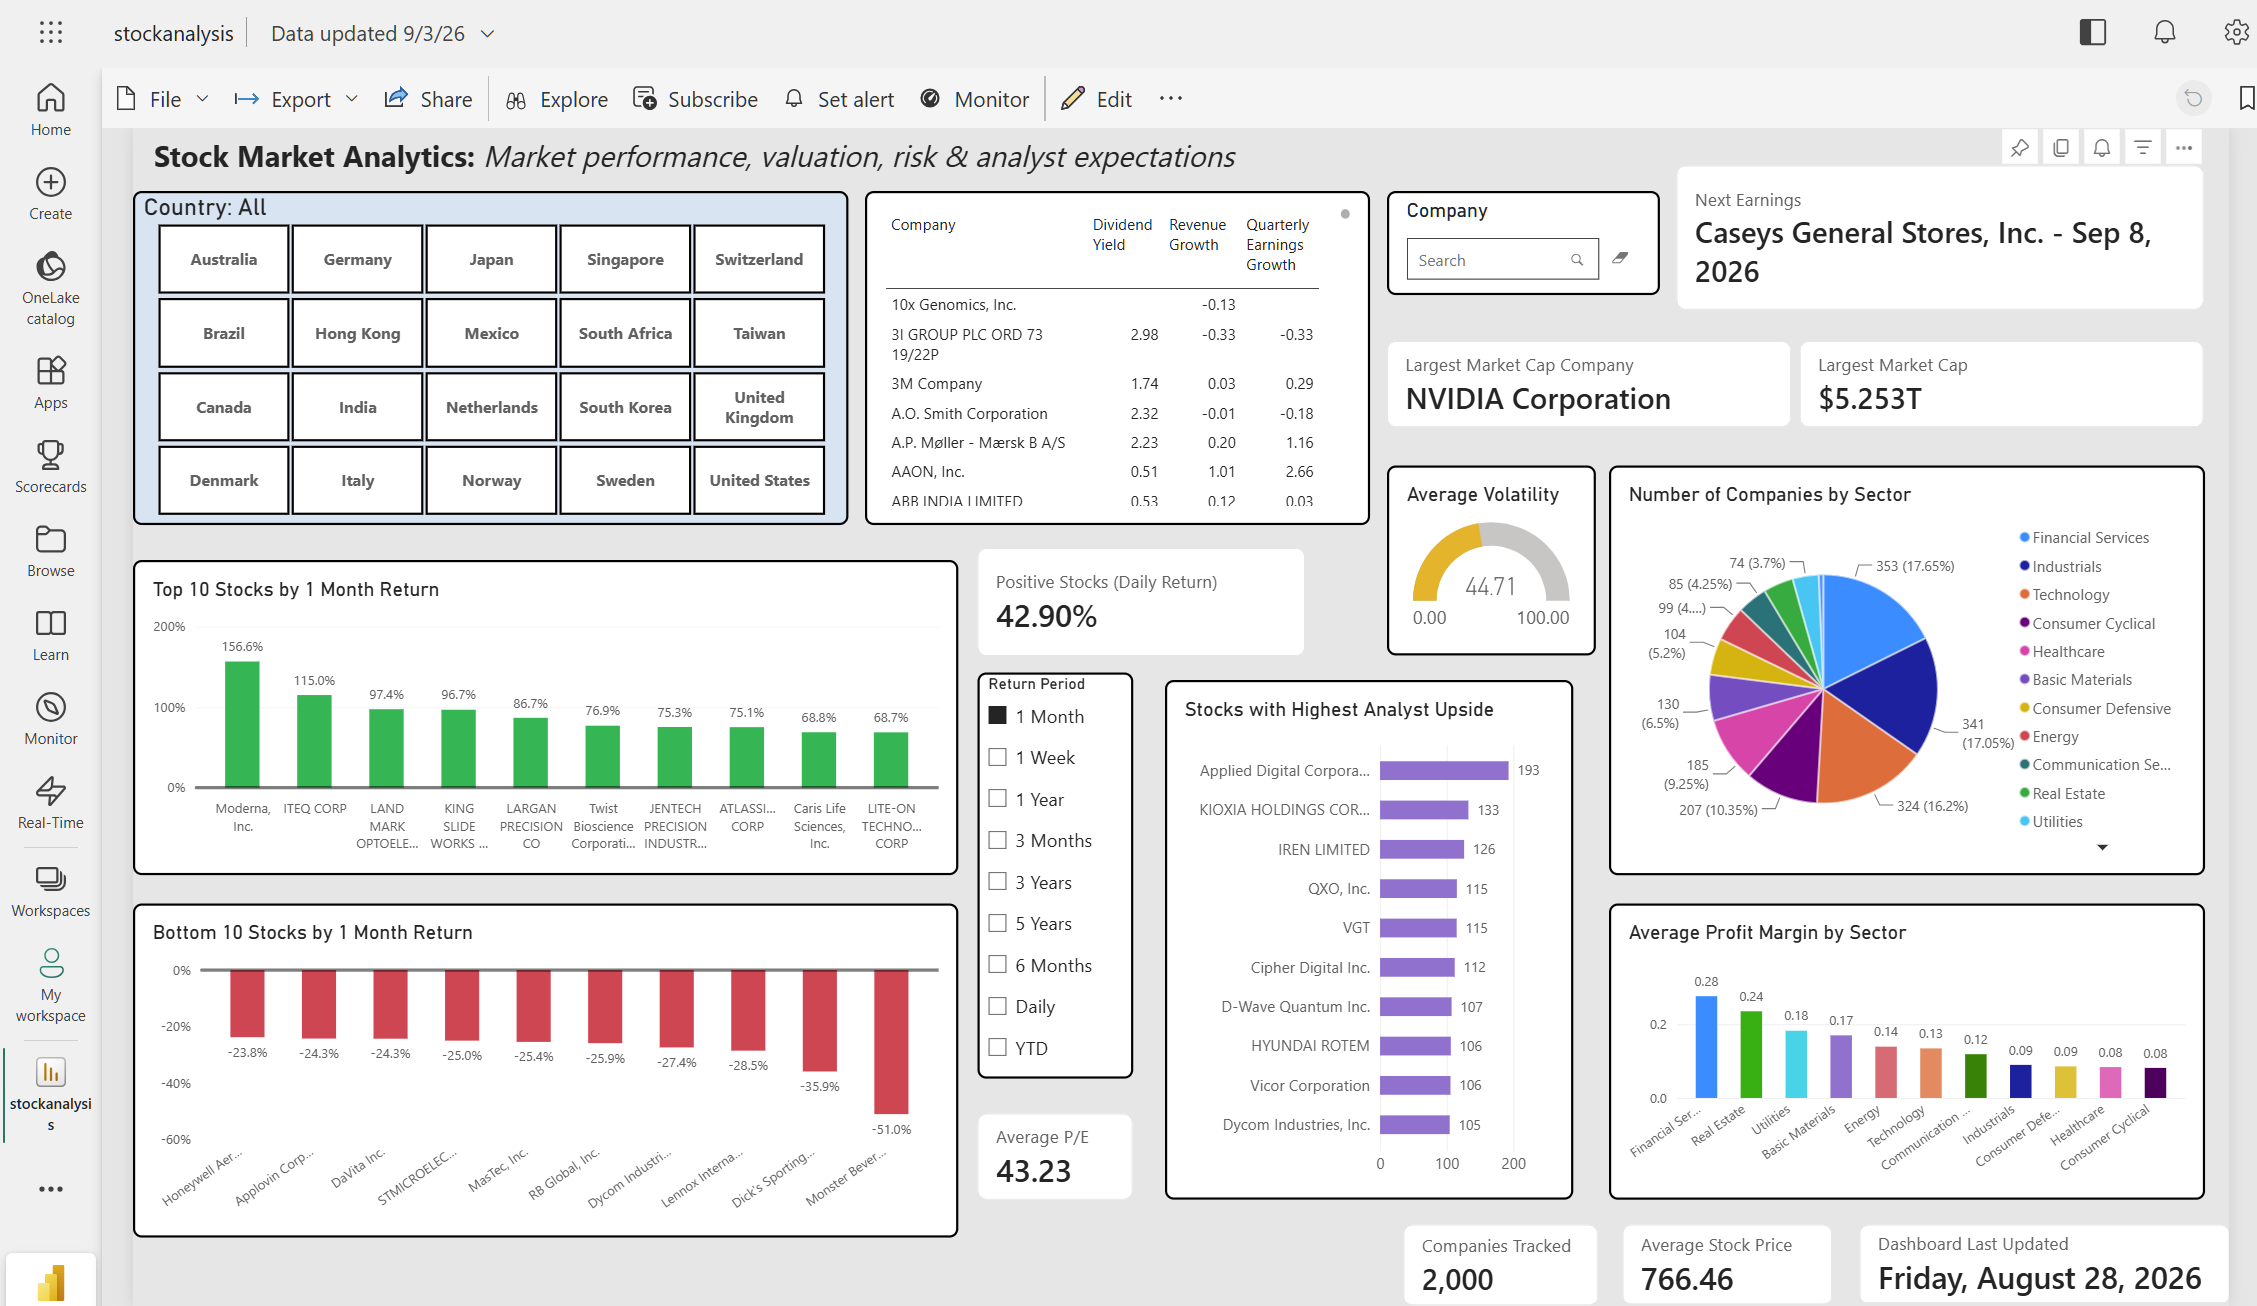

The page's visual inventory and layout, read from the dashboard file:
{"tool":"powerbi","page":{"name":"Page 1","canvas":[1920,1080],"ordinal":0},"visuals":[{"type":"tableEx","fields":{"Values":["public stock_data.Company","public stock_data.DividendYield","public stock_data.RevenueGrowth","public stock_data.QuarterlyEarningsGrowth"]},"box":[670.9,57.4,462.3,305.9],"z":0},{"type":"slicer","title":"Country","fields":{"Values":["public stock_data.Country"]},"box":[0,57.4,655.3,305.9],"z":1000},{"type":"clusteredColumnChart","fields":{"Category":["public stock_data.Company"],"Y":["Table.Selected Return"]},"box":[0,396.3,756.1,288.5],"z":2000},{"type":"clusteredColumnChart","fields":{"Category":["public stock_data.Company"],"Y":["Return Selector.Selected Return"]},"box":[0,710.9,756.1,305.9],"z":3000},{"type":"cardVisual","fields":{"Data":["Count(public stock_data.Company)"]},"box":[1163.2,1004.8,178,75.4],"z":4000},{"type":"cardVisual","fields":{"Data":["public stock_data.Next Earnings"]},"box":[1413.6,34.7,483.2,132.1],"z":5000},{"type":"slicer","fields":{"Values":["Table.Return Period"]},"box":[773.5,498.8,142.5,372],"z":6000},{"type":"cardVisual","fields":{"Data":["public stock_data.Largest Market Cap Company","Return Selector.Largest Market Cap"]},"box":[1148.9,194.7,749.1,80],"z":7000},{"type":"pieChart","title":"Number of Companies by Sector","fields":{"Category":["public stock_data.Sector"],"Y":["CountNonNull(public stock_data.Ticker)"]},"box":[1352.2,309.4,545.8,375.4],"z":8000},{"type":"gauge","title":"Average Volatility","fields":{"Y":["public stock_data.Average Volatility"]},"box":[1148.9,309.4,191.2,173.8],"z":9000},{"type":"barChart","title":"Stocks with Highest Analyst Upside","fields":{"Category":["public stock_data.Company"],"Y":["Sum(public stock_data.UpsideToTarget)"]},"box":[945.5,505.8,373.7,476.2],"z":10000},{"type":"cardVisual","fields":{"Data":["Return Selector.Dashboard Last Updated"]},"box":[1581.1,1004.8,339.4,73.9],"z":11000},{"type":"cardVisual","fields":{"Data":["Avg(public stock_data.CurrentPriceUSD)"]},"box":[1364.4,1004.6,192.9,74.7],"z":12000},{"type":"columnChart","title":"Average Profit Margin by Sector","fields":{"Category":["public stock_data.Sector"],"Y":["Avg(public stock_data.ProfitMargin)"]},"box":[1352.2,710.9,545.8,271.1],"z":12001},{"type":"textFilter25A4896A83E0487089E2B90C9AE57C8A","fields":{"field":["public stock_data.Company"]},"box":[1148.9,57.4,250.3,95.6],"z":12003},{"type":"cardVisual","fields":{"Data":["Avg(public stock_data.PE)"]},"box":[773.5,902.1,142.5,80],"z":12004},{"type":"cardVisual","fields":{"Data":["Return Selector.Positive Stocks %"]},"box":[773.5,384.1,300.7,99.1],"z":12005},{"type":"textbox","box":[100,100,300,300],"z":12006},{"type":"textbox","box":[19.1,7,999.4,50.4],"z":12007}]}

Visuals, with their boxes on the page's 1920x1080 design canvas (x1, y1, x2, y2). These are canvas units, not pixel positions in the 2257x1306 screenshot, which may show the page scaled, cropped or inside an application window:
tableEx - public stock_data.Company x public stock_data.DividendYield: 671,57,1133,363
"Country" slicer: 0,57,655,363
clusteredColumnChart - public stock_data.Company x Table.Selected Return: 0,396,756,685
clusteredColumnChart - public stock_data.Company x Return Selector.Selected Return: 0,711,756,1017
cardVisual - Count(public stock_data.Company): 1163,1005,1341,1080
cardVisual - public stock_data.Next Earnings: 1414,35,1897,167
slicer - Table.Return Period: 774,499,916,871
cardVisual - public stock_data.Largest Market Cap Company x Return Selector.Largest Market Cap: 1149,195,1898,275
"Number of Companies by Sector" pieChart: 1352,309,1898,685
"Average Volatility" gauge: 1149,309,1340,483
"Stocks with Highest Analyst Upside" barChart: 946,506,1319,982
cardVisual - Return Selector.Dashboard Last Updated: 1581,1005,1920,1079
cardVisual - Avg(public stock_data.CurrentPriceUSD): 1364,1005,1557,1079
"Average Profit Margin by Sector" columnChart: 1352,711,1898,982
textFilter25A4896A83E0487089E2B90C9AE57C8A - public stock_data.Company: 1149,57,1399,153
cardVisual - Avg(public stock_data.PE): 774,902,916,982
cardVisual - Return Selector.Positive Stocks %: 774,384,1074,483
textbox: 100,100,400,400
textbox: 19,7,1018,57
